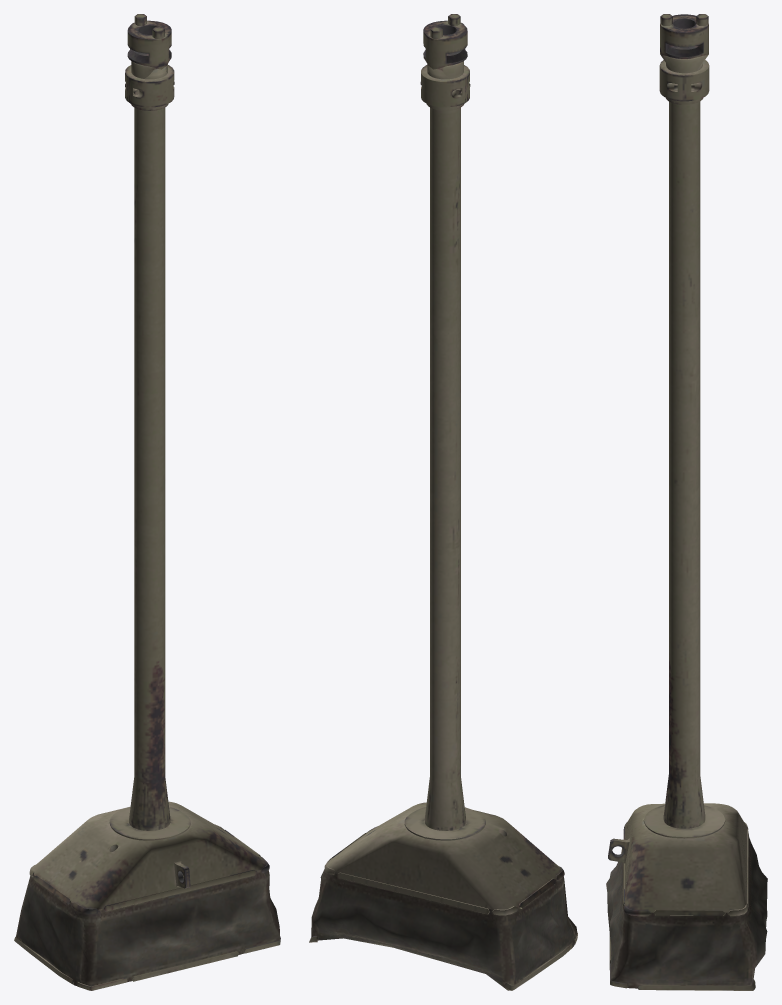
Rendered from Gun_03.glb.
The picture shows the model from 3 angles, left to right: view 1: azimuth 30°, elevation 25°; view 2: azimuth 150°, elevation 25°; view 3: azimuth 270°, elevation 25°; orthographic projection.
Visible parts, largest first — view 1: set_0_group_0; view 2: set_0_group_0; view 3: set_0_group_0.
Boxes of the visible parts, x1,y1,x2,y2 form: set_0_group_0: (14, 14, 280, 990); set_0_group_0: (309, 14, 577, 990); set_0_group_0: (606, 14, 767, 990).
Bounding box in the file's own units: 1.15 × 4.75 × 0.7526.
1 material, 1 textured.
